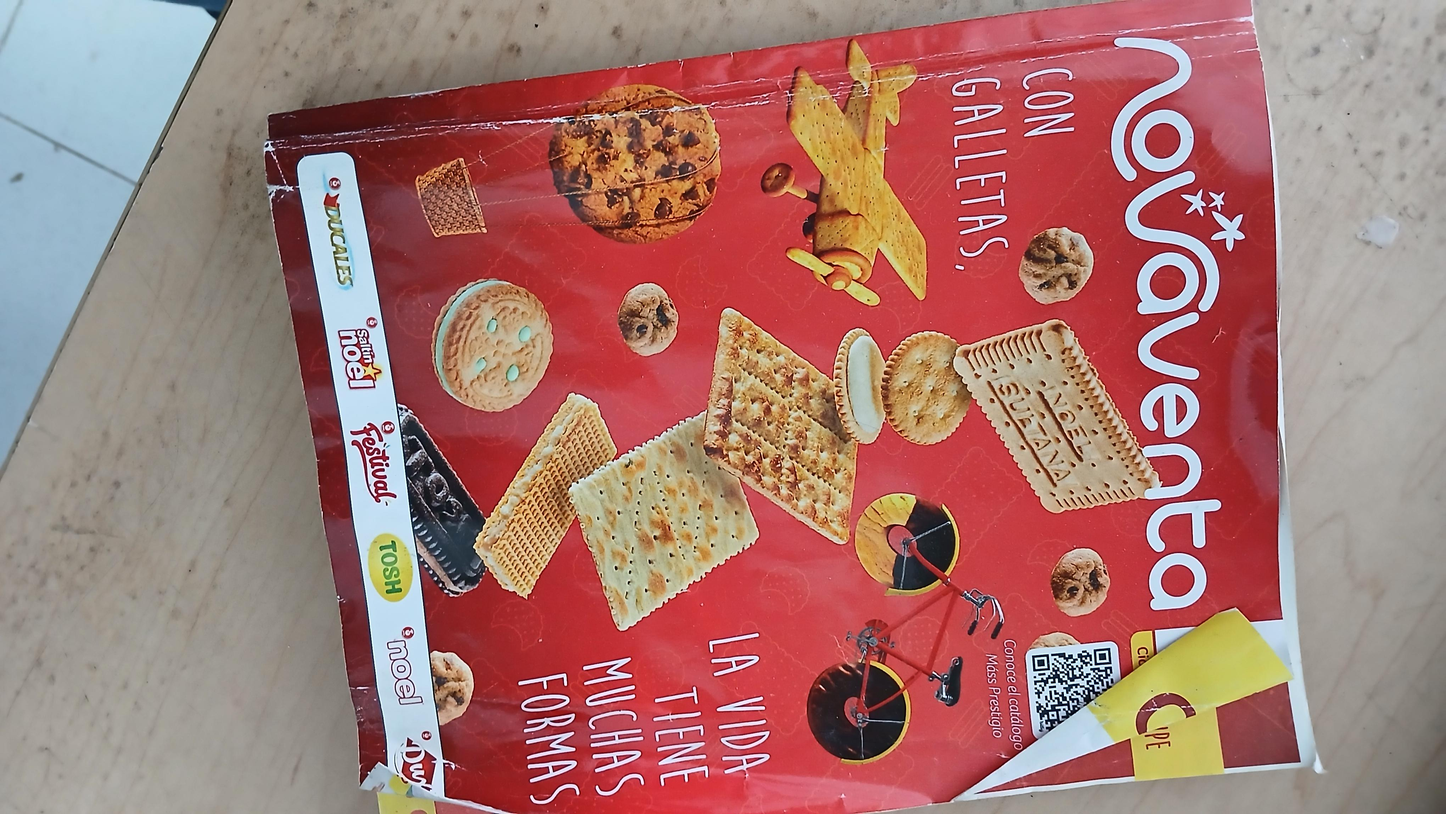Papel: (267, 0, 1330, 814)
